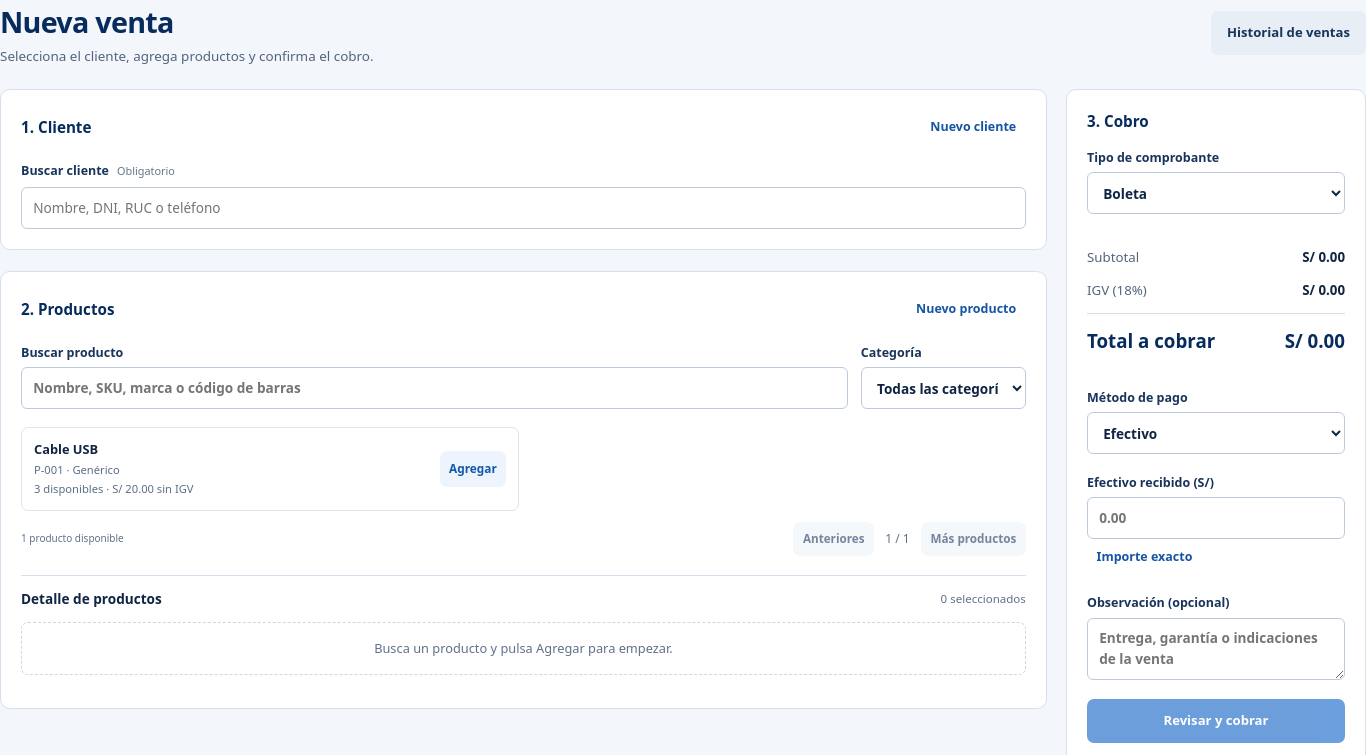
Test: SalePage › conserva el carrito y explica el error cuando no se guarda la venta
Type "Cliente de Prueba" into the dropdown labelled "Buscar cliente".
click(523, 208); type("Cliente de Prueba")  # box [21,187,1026,229]
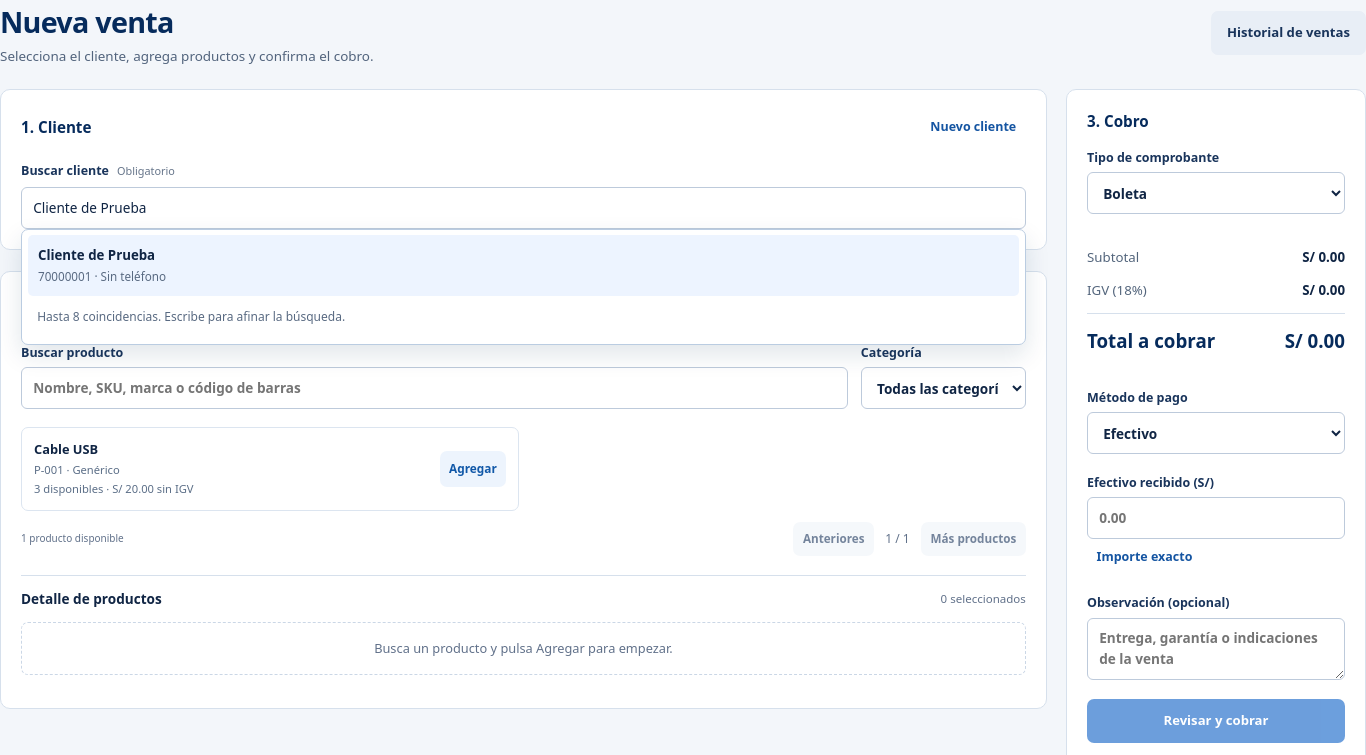
Click the option "Cliente de Prueba 70000001 · Sin teléfono".
click(97, 255)  # box [28,236,1019,296]
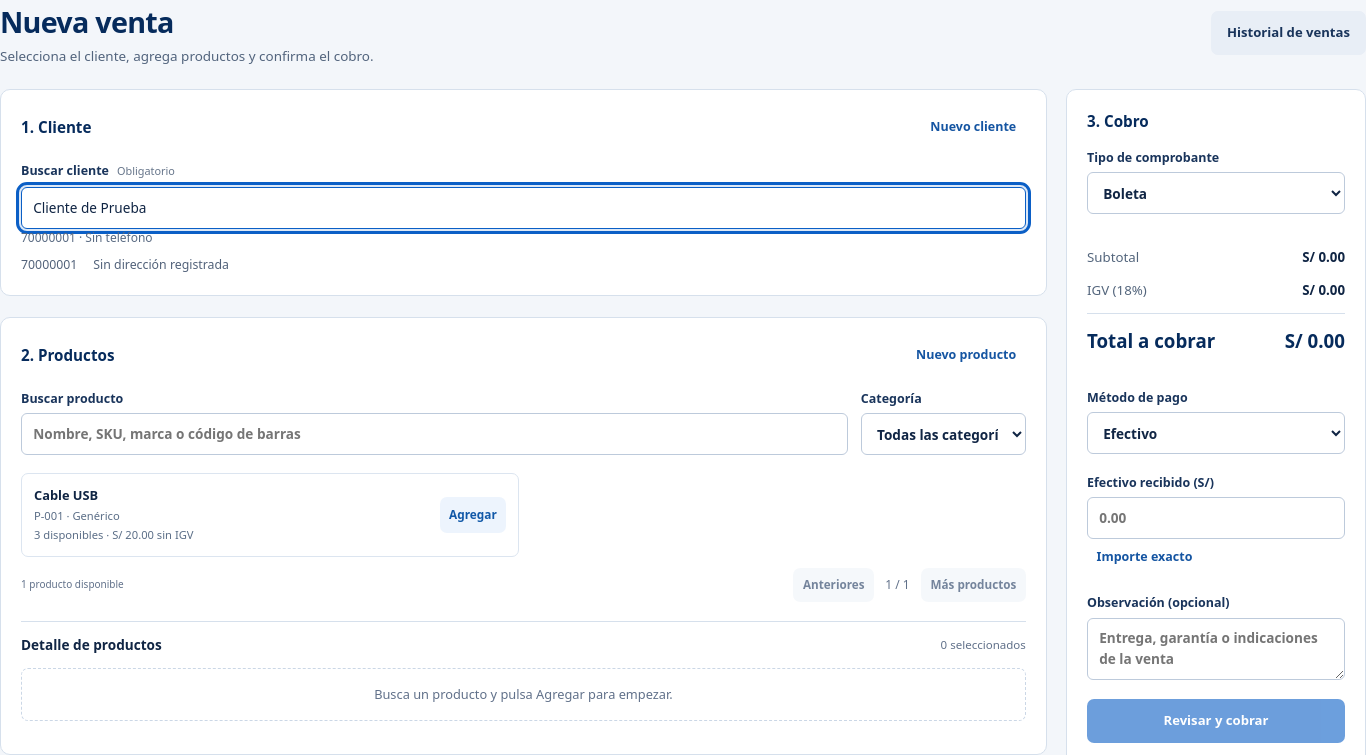
Click the button with aria-label "Agregar Cable USB".
click(473, 515)  # box [440,497,506,533]
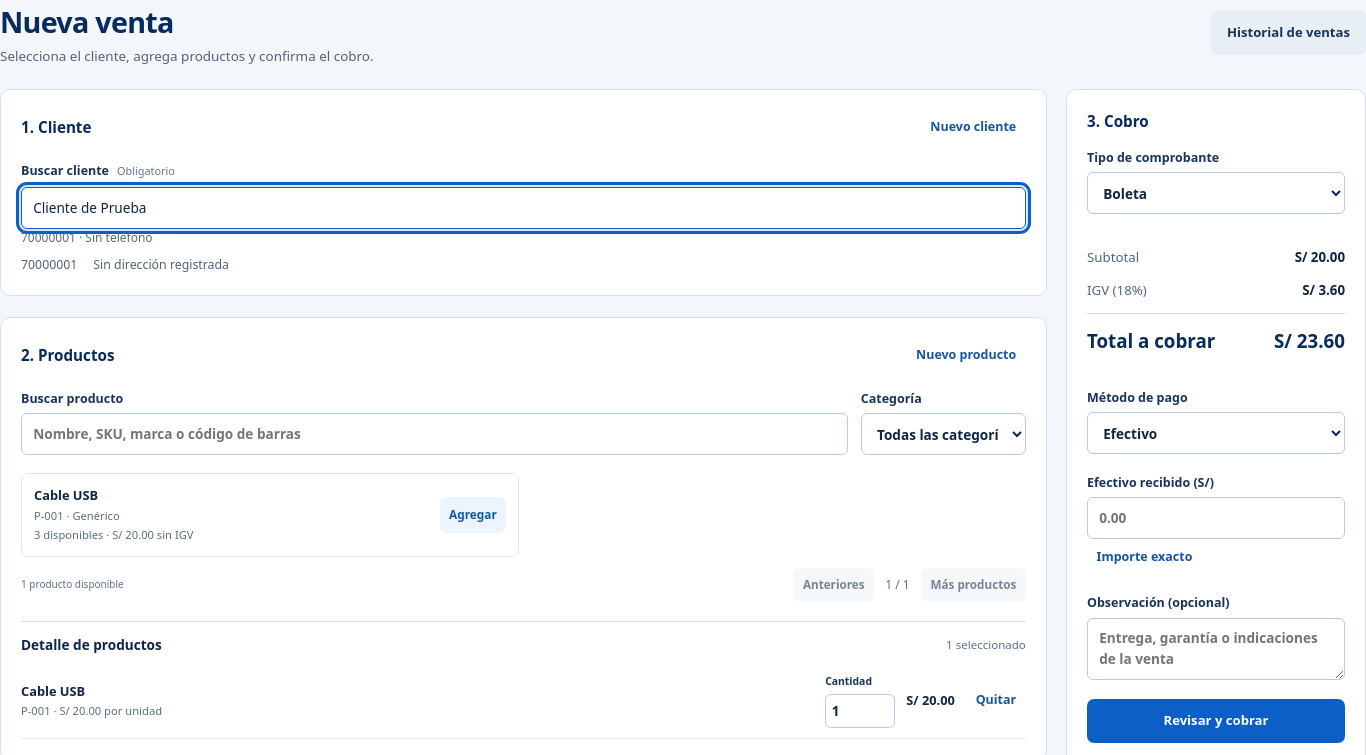
Click the button "Importe exacto".
click(1144, 557)  # box [1087,539,1202,575]
(page scrolled)
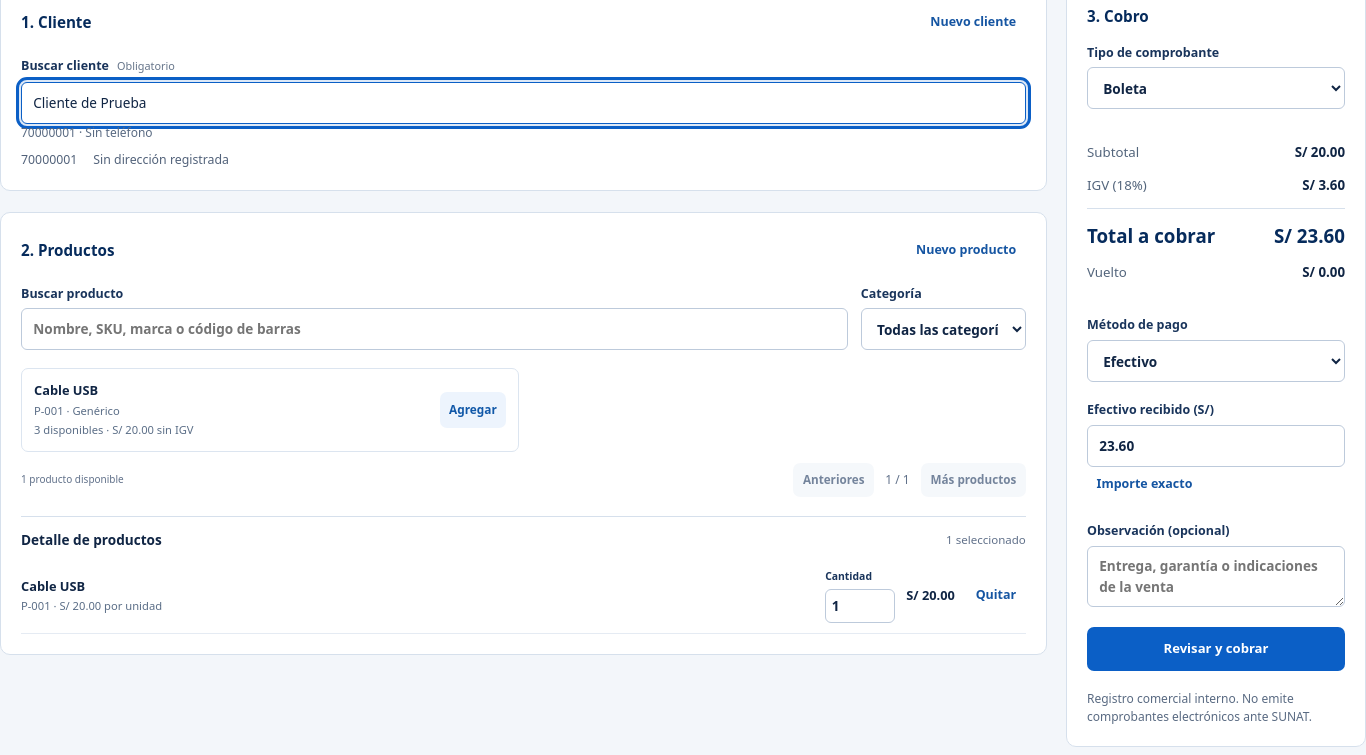
Click the button "Revisar y cobrar".
click(1216, 649)  # box [1087,627,1345,671]
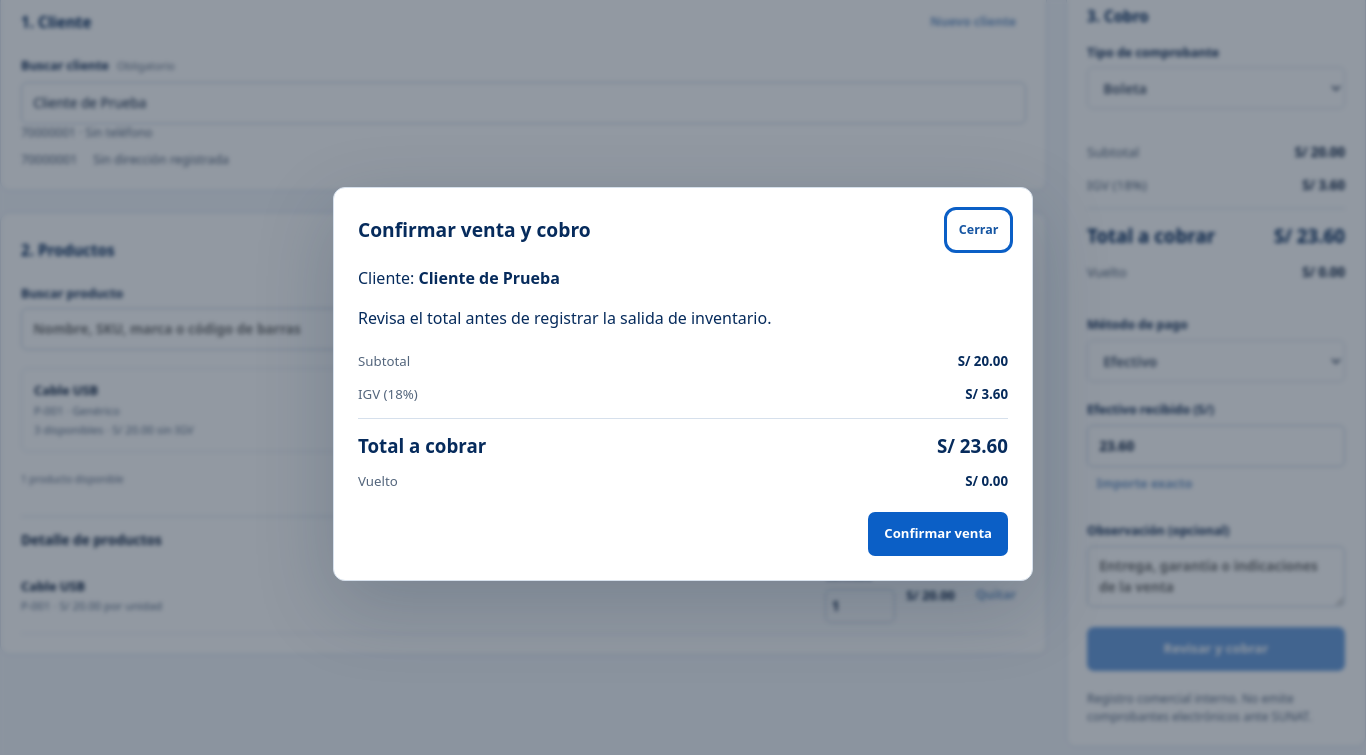
Click the button "Confirmar venta".
click(938, 534)  # box [868,512,1008,556]
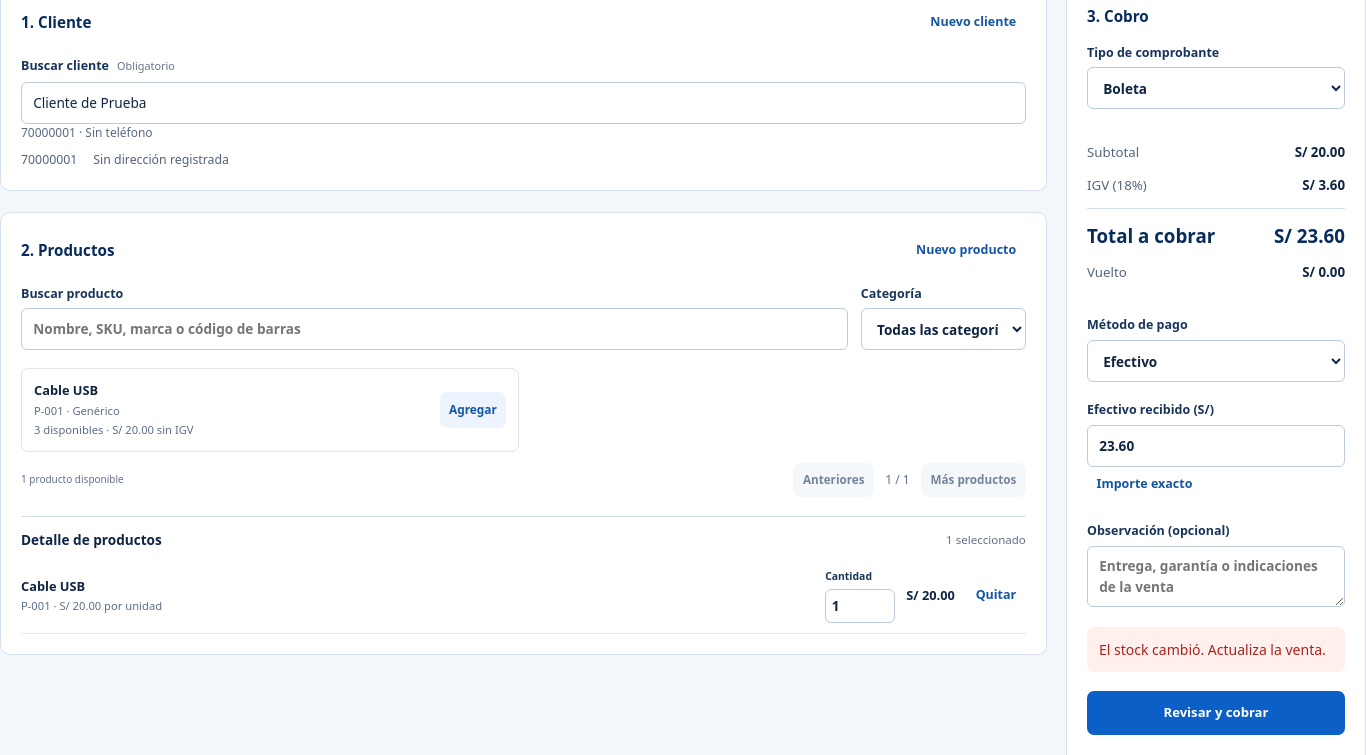
expect the number field named "Cantidad de Cable USB" holds "1": met, box [825,589,895,623]
expect the message shows "El stock cambió": met, box [1099,640,1326,659]
